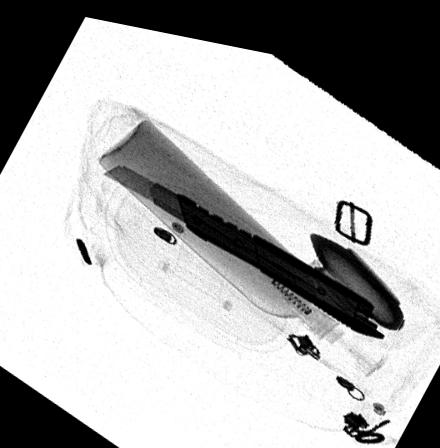Knife: (101, 158, 386, 324)
